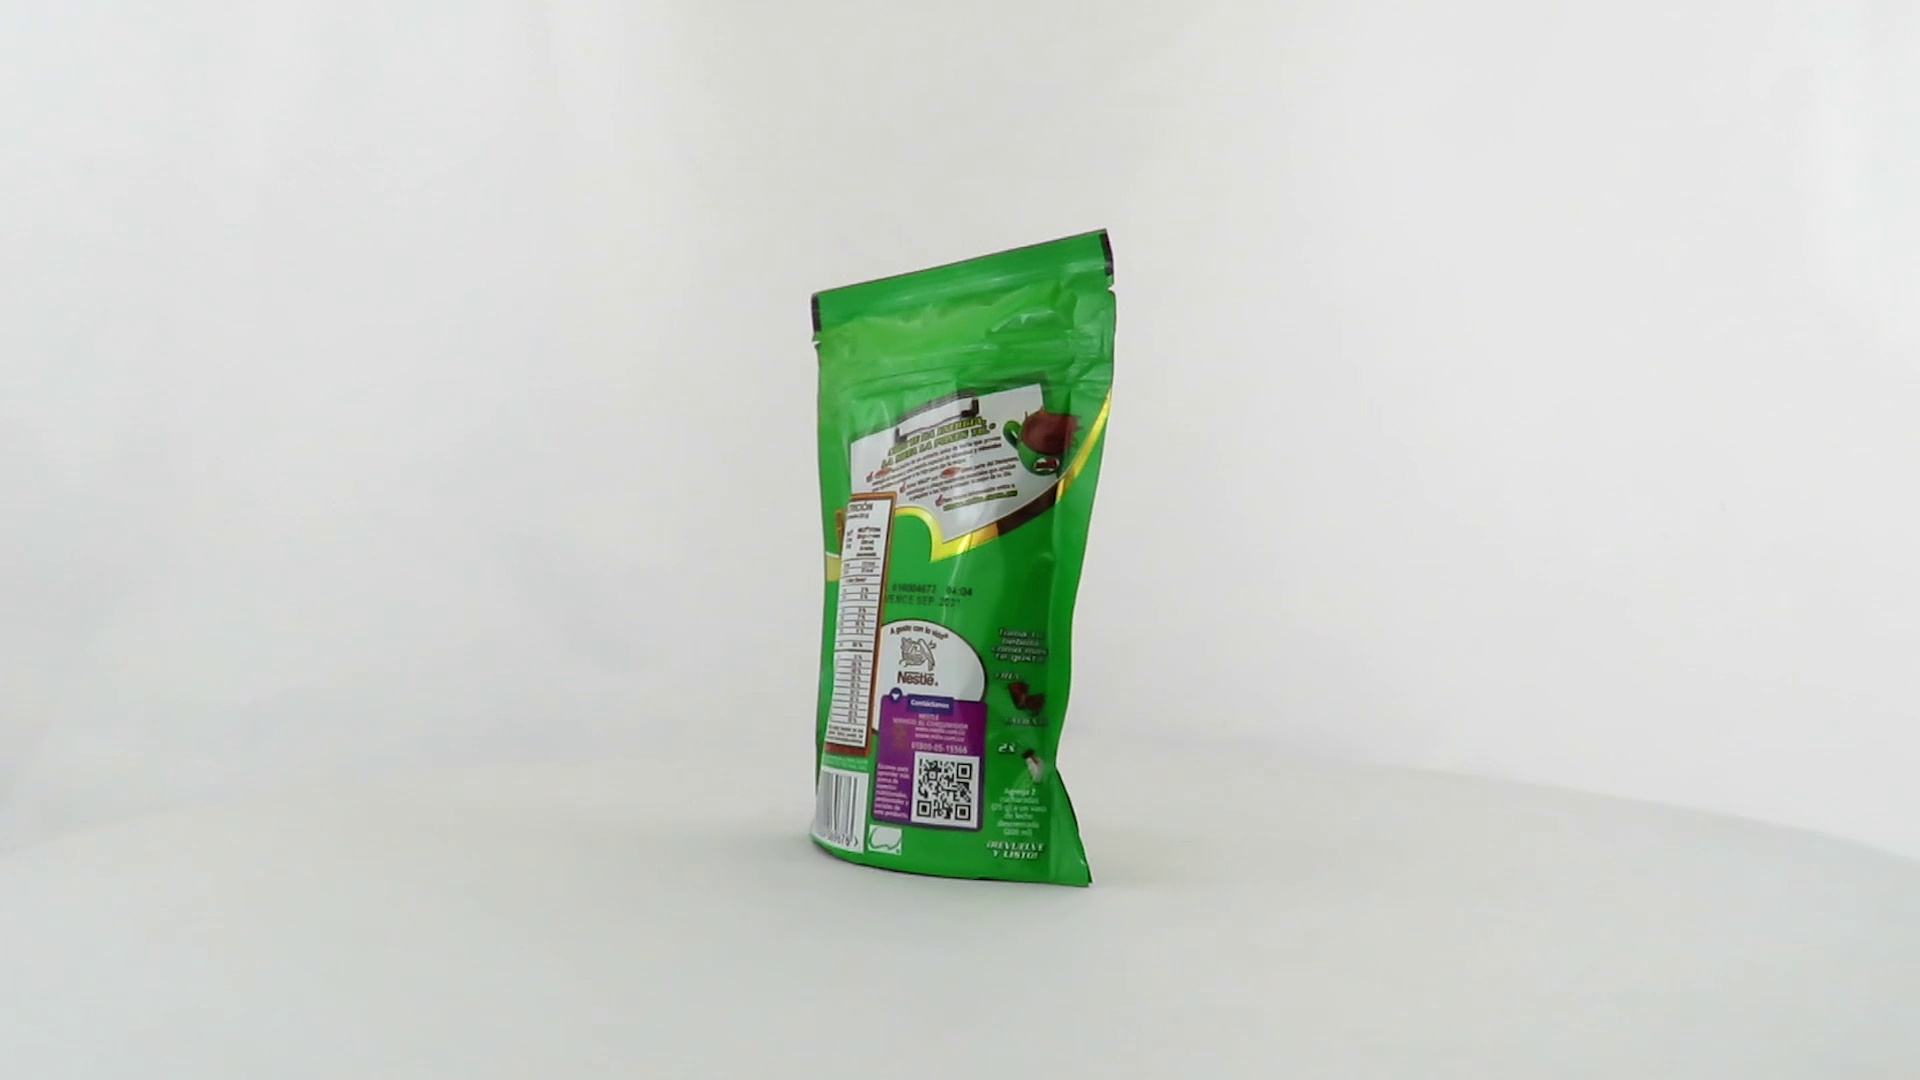COL0170203DYP10000: (803, 223, 1124, 894)
